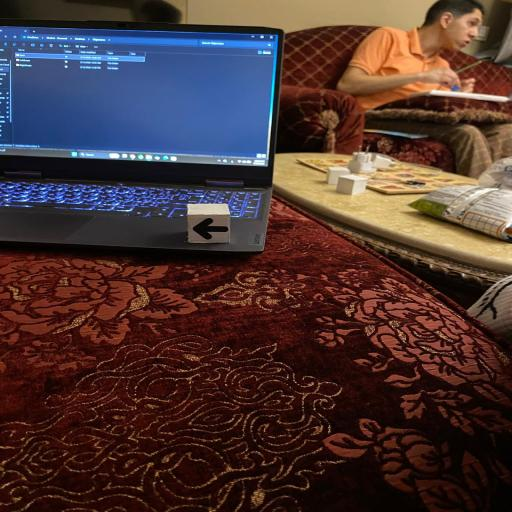Back: (186, 203, 232, 244)
